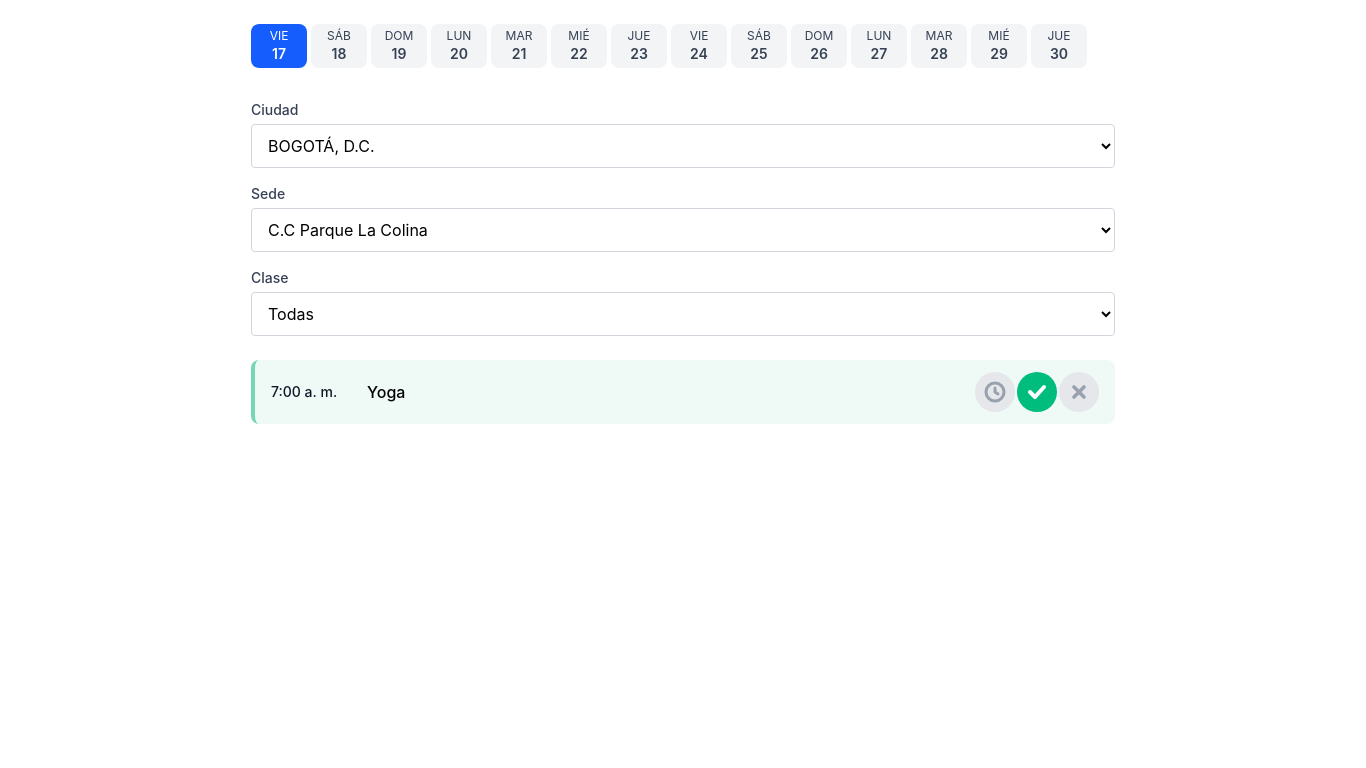
Test case: SchedulePage › booking state › shows confirmation dialog when a booked card is tapped
Click the button "7:00 a. m. Yoga": (304, 392) [251,360,1115,424]
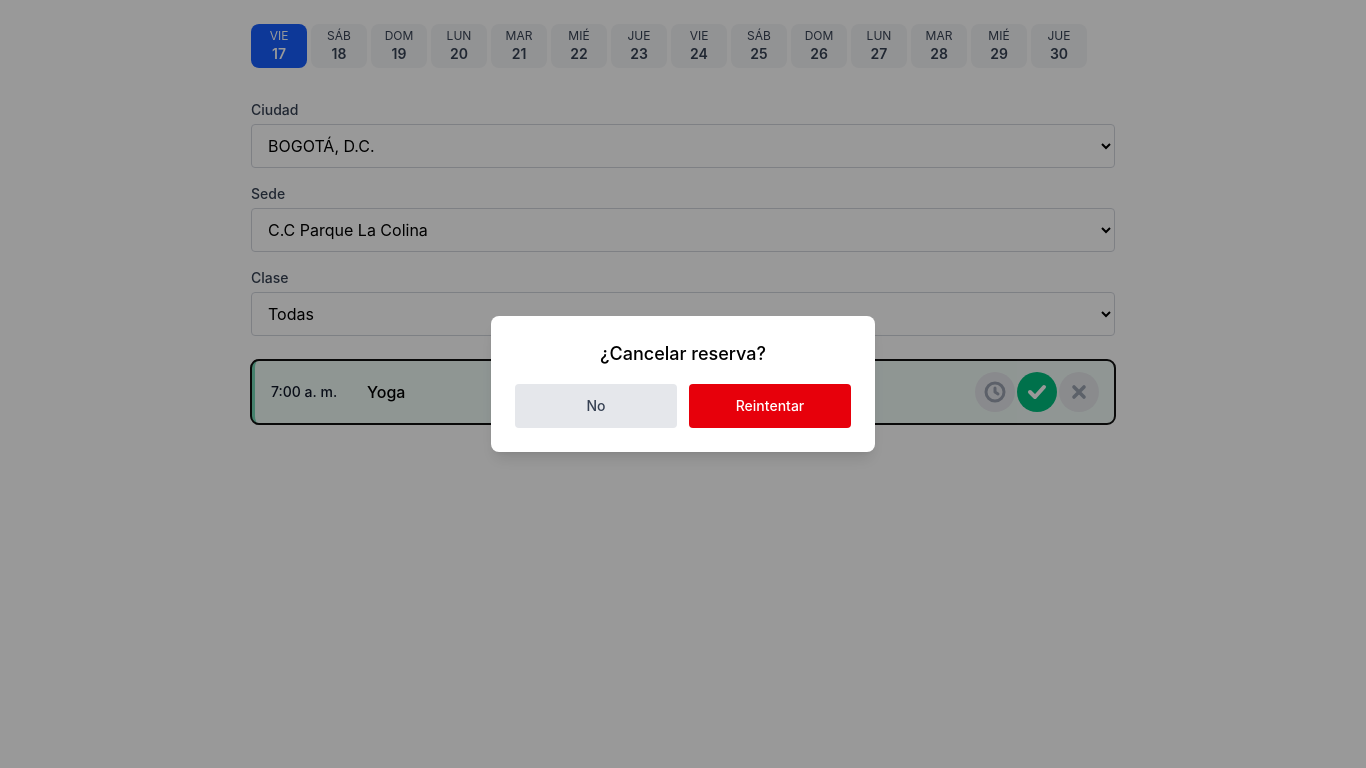
Result: the text "¿Cancelar reserva?" is shown at [600,343,766,364]
// Dismiss dialog
Click the button "No": (596, 406) [515,384,677,428]
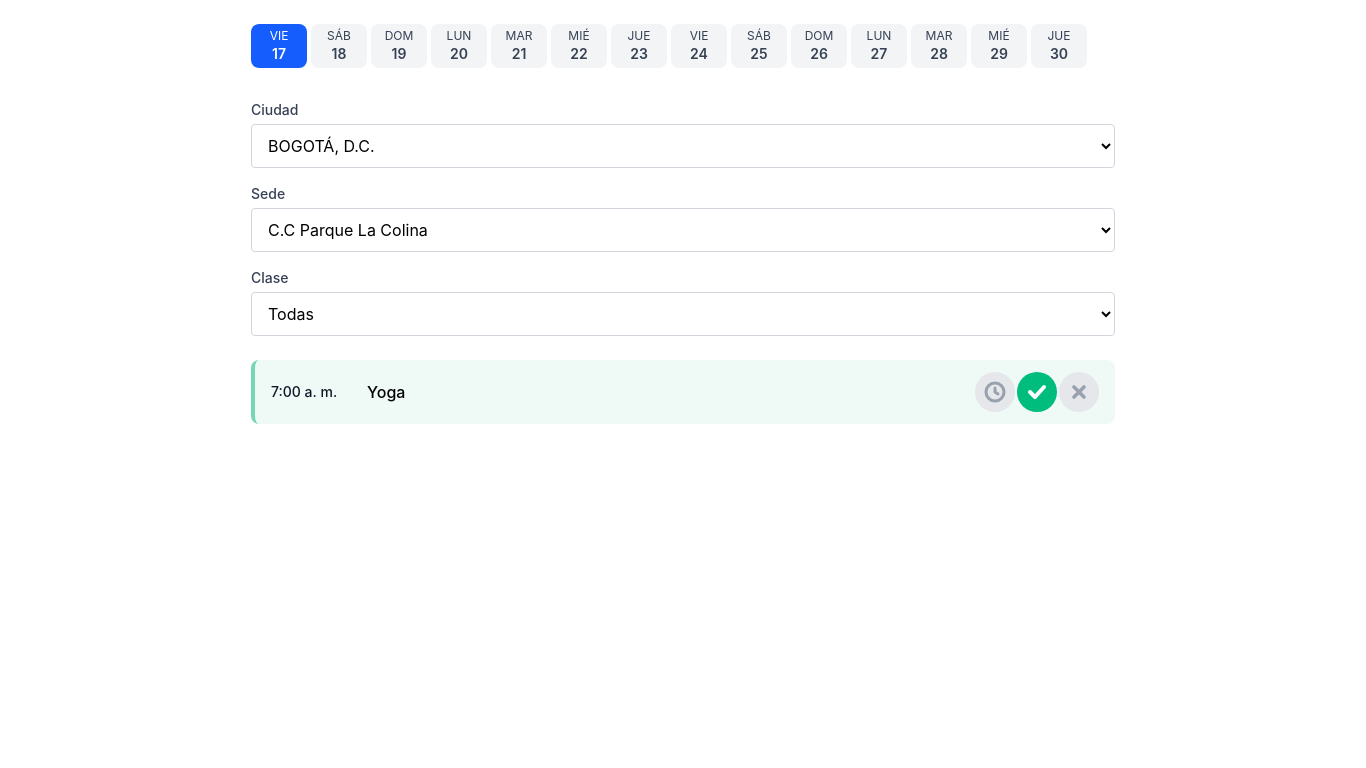
Result: the text "¿Cancelar reserva?" is gone
